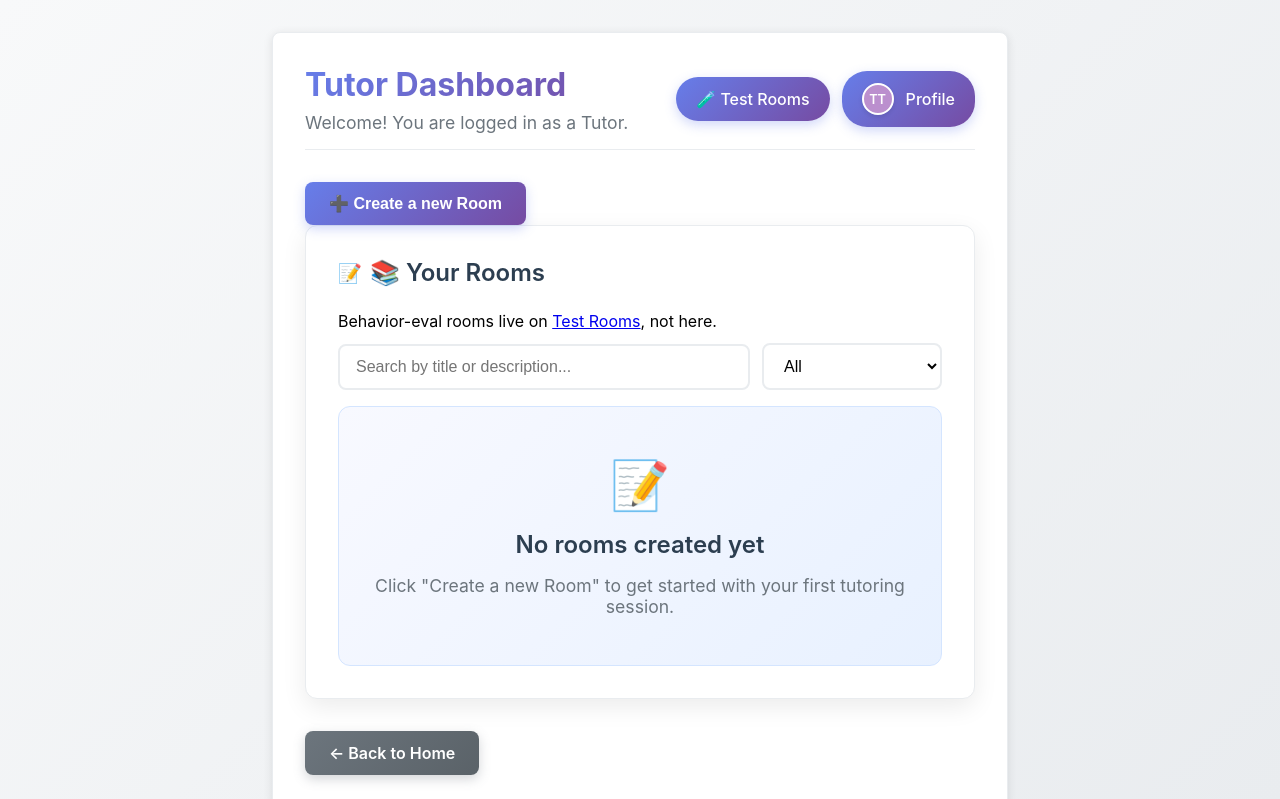
Room Template Management › Template Usage › should auto-fill form when template is selected
// Open form and select template
Click the button "➕ Create a new Room". click: click(415, 204)
box: [305,182,526,225]
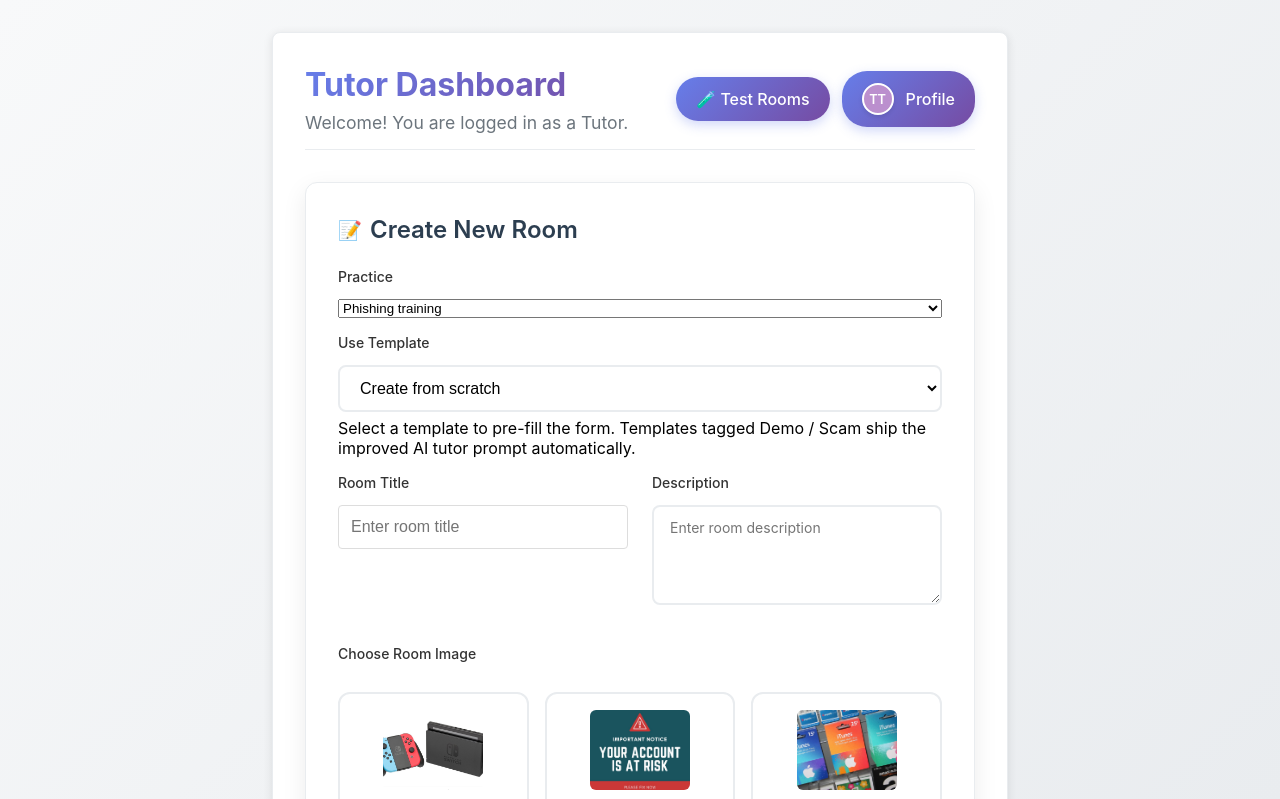
Check: the dropdown labelled "Use Template" is shown
Select "Privacy Workshop Template" in the dropdown labelled "Use Template". click: (640, 388)
box: [338,365,942,412]
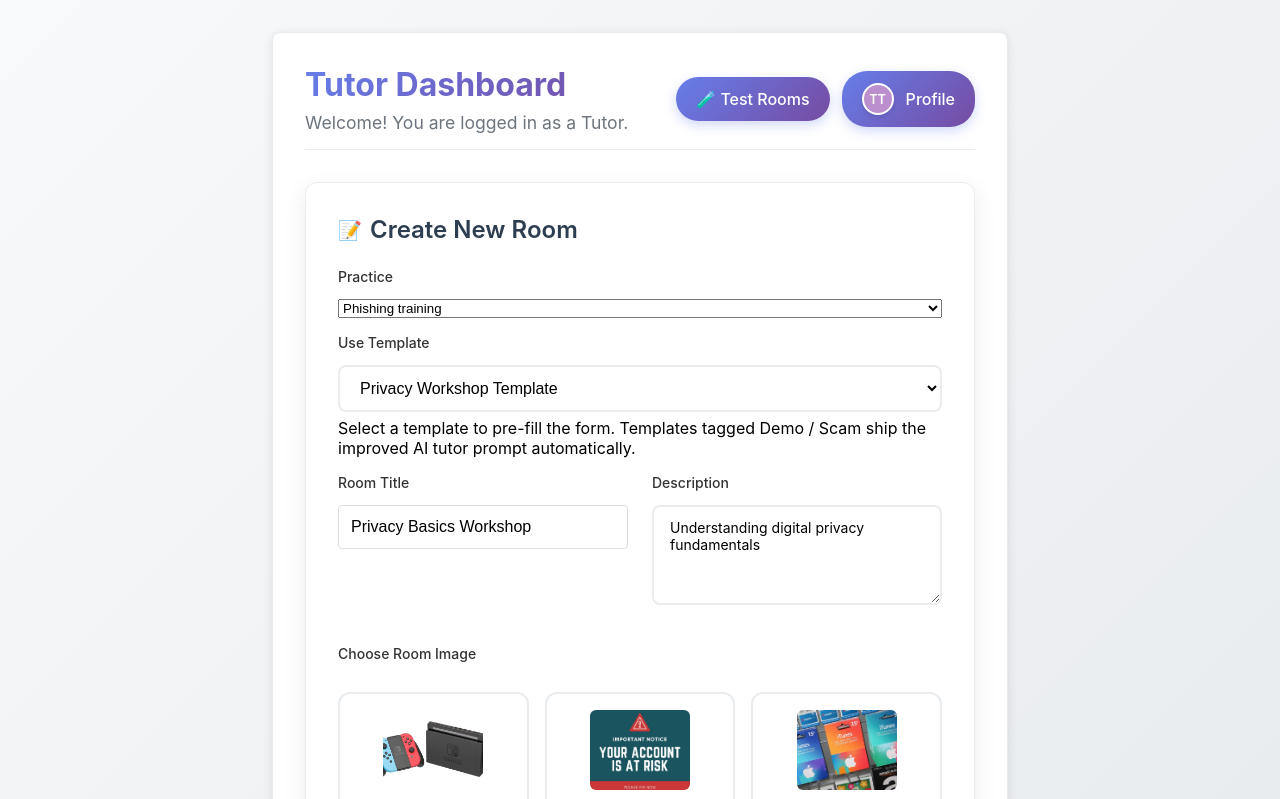
Check: the field labelled "Room Title" holds "Privacy Basics Workshop", box [338,505,628,549]
Check: the text box labelled "Description" holds "Understanding digital privacy fundamentals", box [652,505,942,605]
